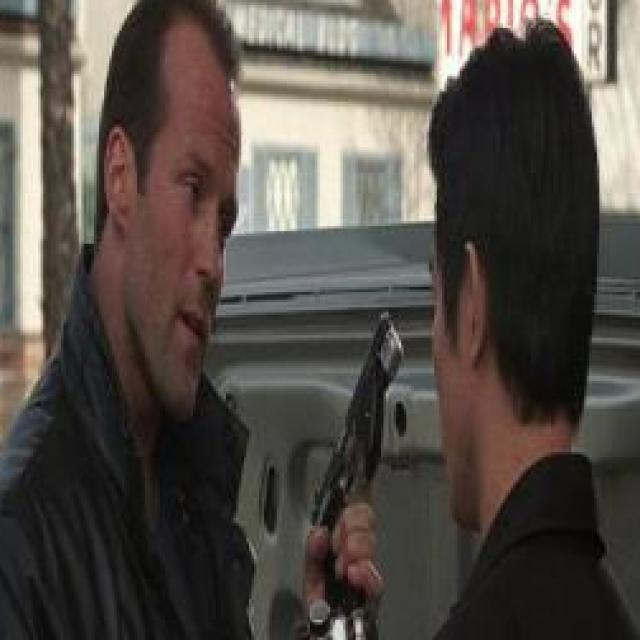pistol: (282, 292, 409, 640)
